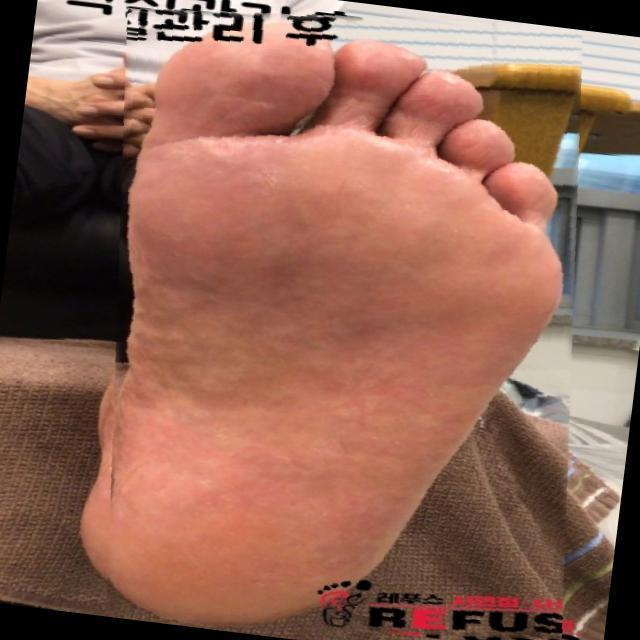No_Shoes: (134, 23, 554, 640)
